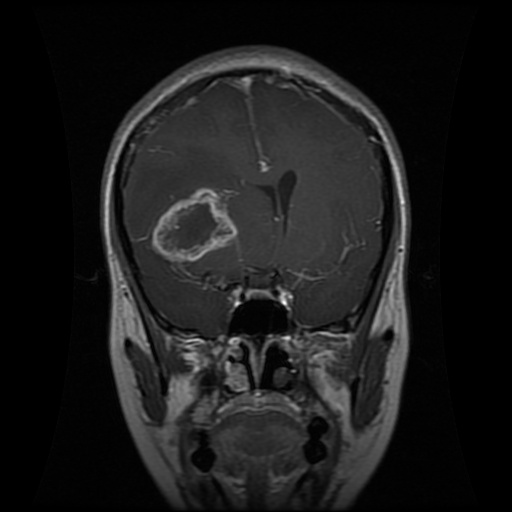glioma: (145, 181, 239, 266)
